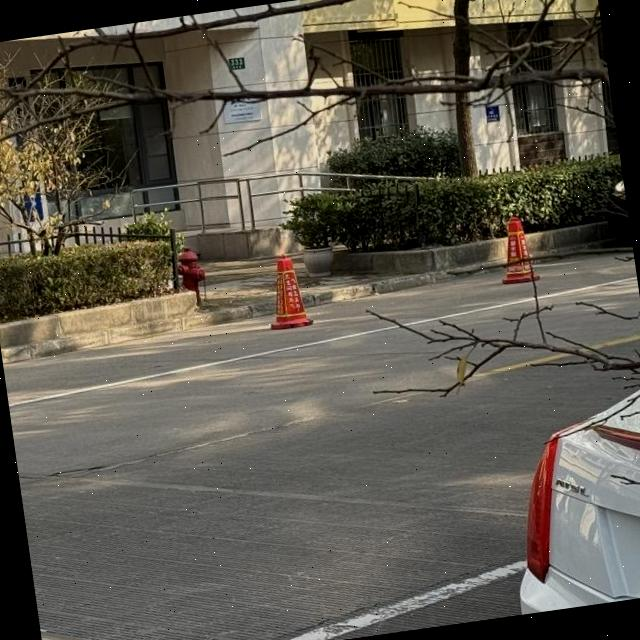curb: (1, 302, 274, 364), (0, 292, 195, 348), (302, 261, 505, 308), (332, 238, 506, 275), (527, 222, 609, 255), (533, 241, 625, 260)
